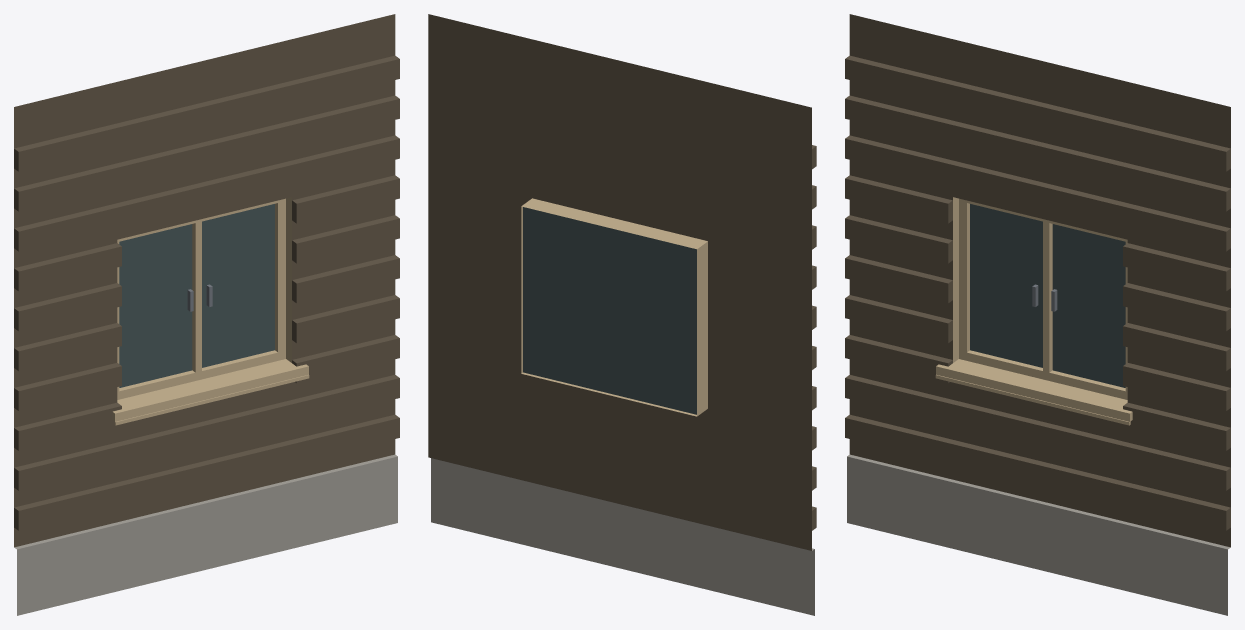
Rendered from base-w1_close.fbx.
3 renders of one model, left to right at view 1: azimuth 30°, elevation 25°; view 2: azimuth 150°, elevation 25°; view 3: azimuth 330°, elevation 25°, orthographic.
Parts seen in each view (by area): view 1: a2015/400/base-w1_close; view 2: a2015/400/base-w1_close; view 3: a2015/400/base-w1_close.
Part boxes in pixels (<box>): a2015/400/base-w1_close: <box>14,14,399,615</box>; a2015/400/base-w1_close: <box>428,14,816,615</box>; a2015/400/base-w1_close: <box>845,14,1230,615</box>.
Bounding box in the file's own units: 2.4 × 3.05 × 0.205.
